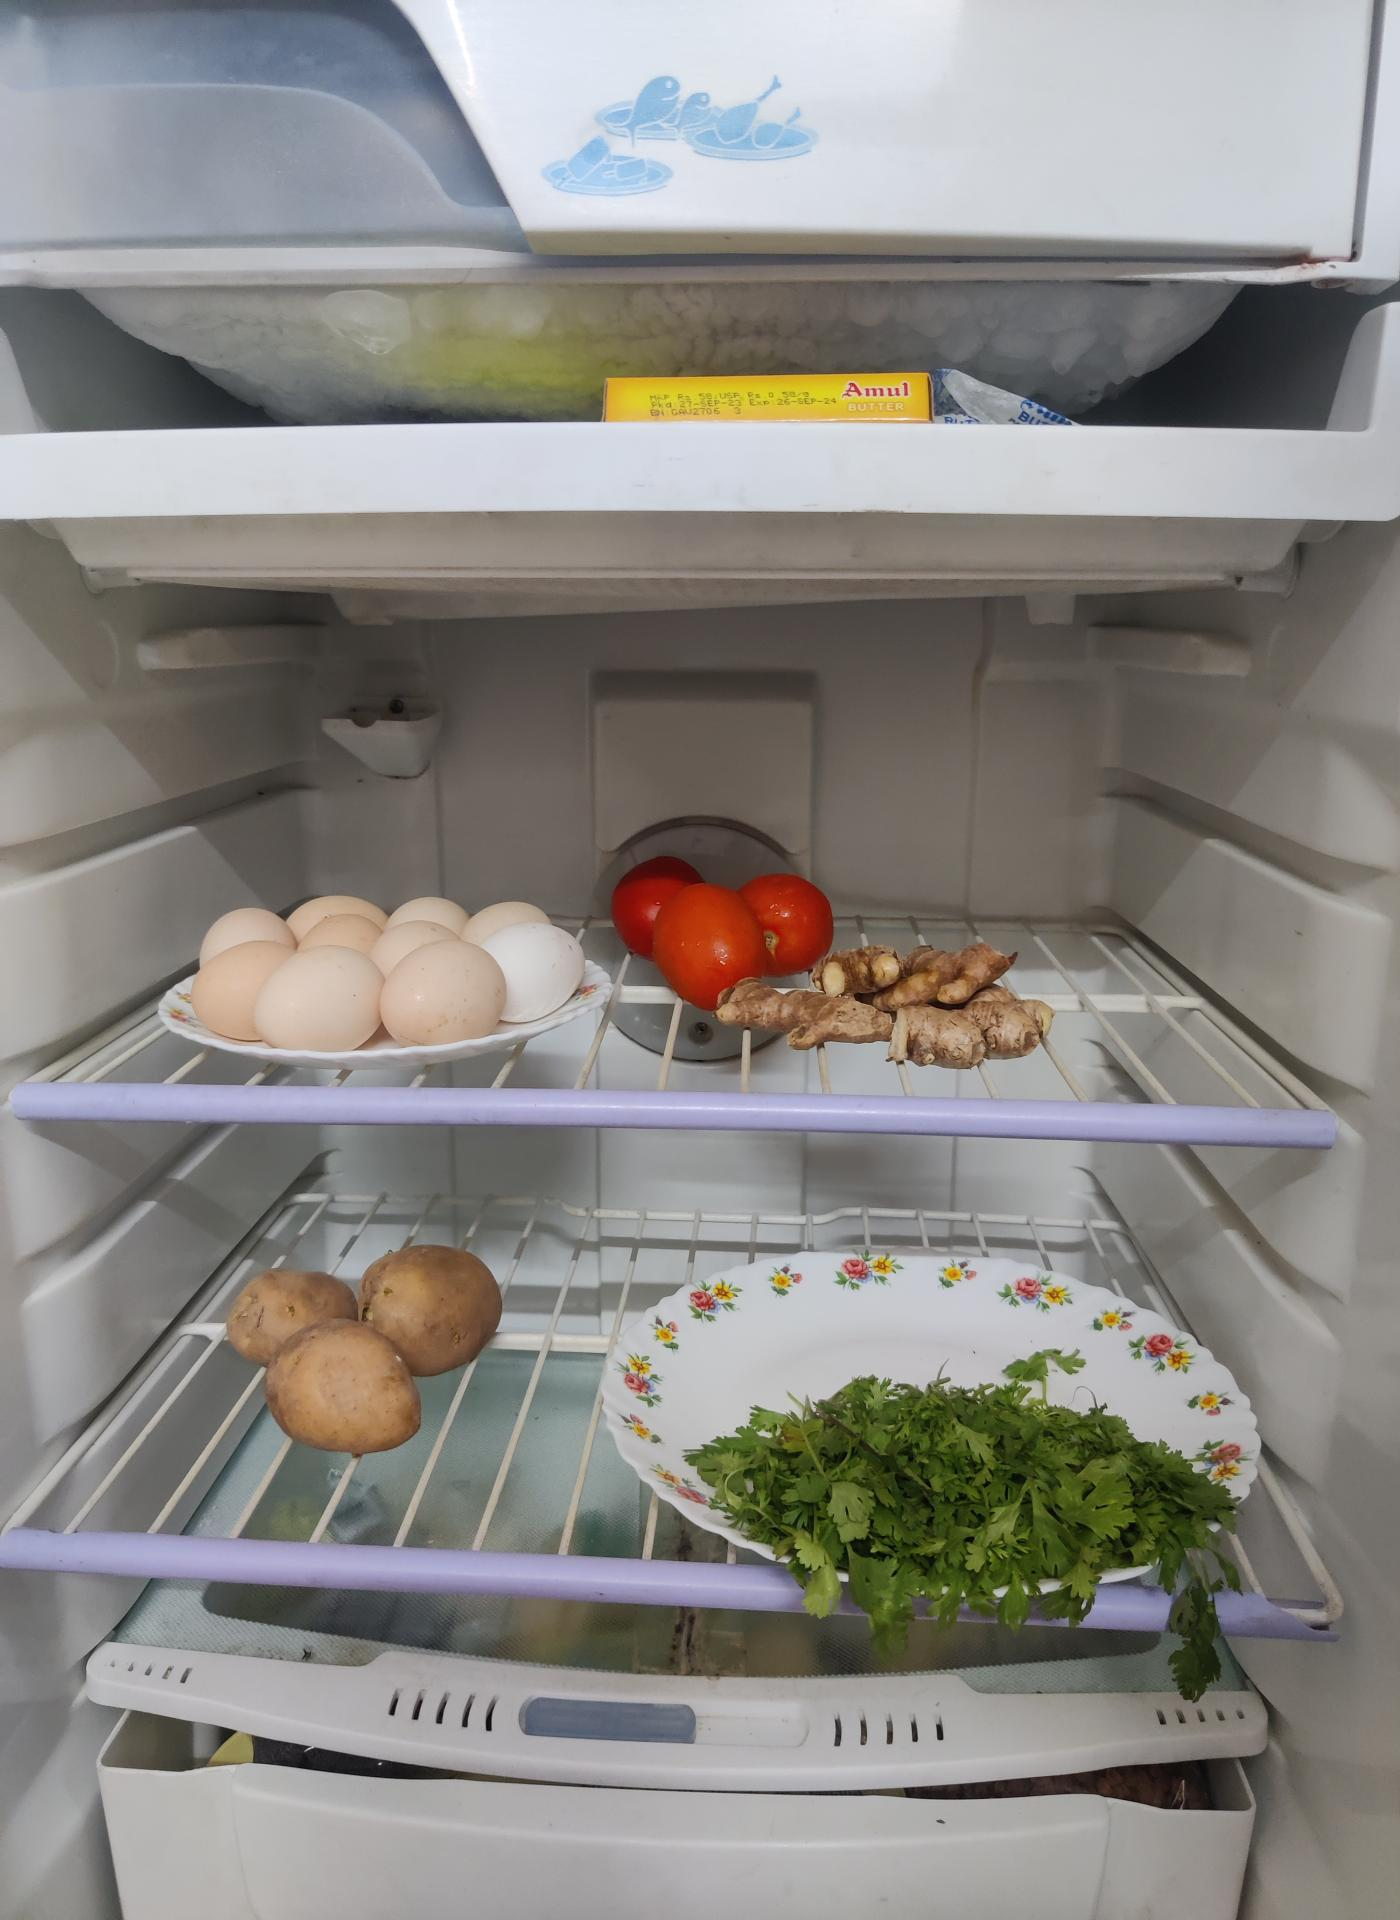coriander: (675, 1373, 1242, 1629)
egg: (176, 881, 573, 1048)
ginger: (732, 935, 1054, 1055)
potato: (236, 1246, 508, 1455)
tomato: (608, 851, 833, 1002)
